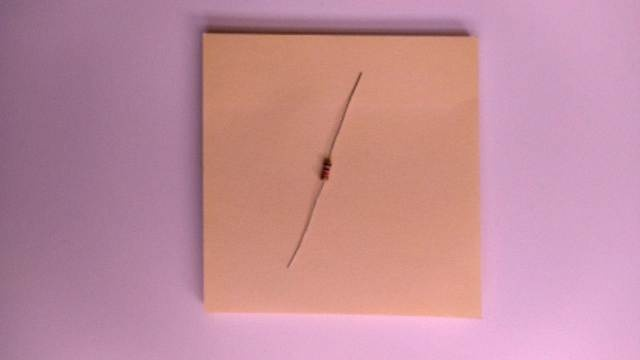resistor: (320, 160, 332, 182)
